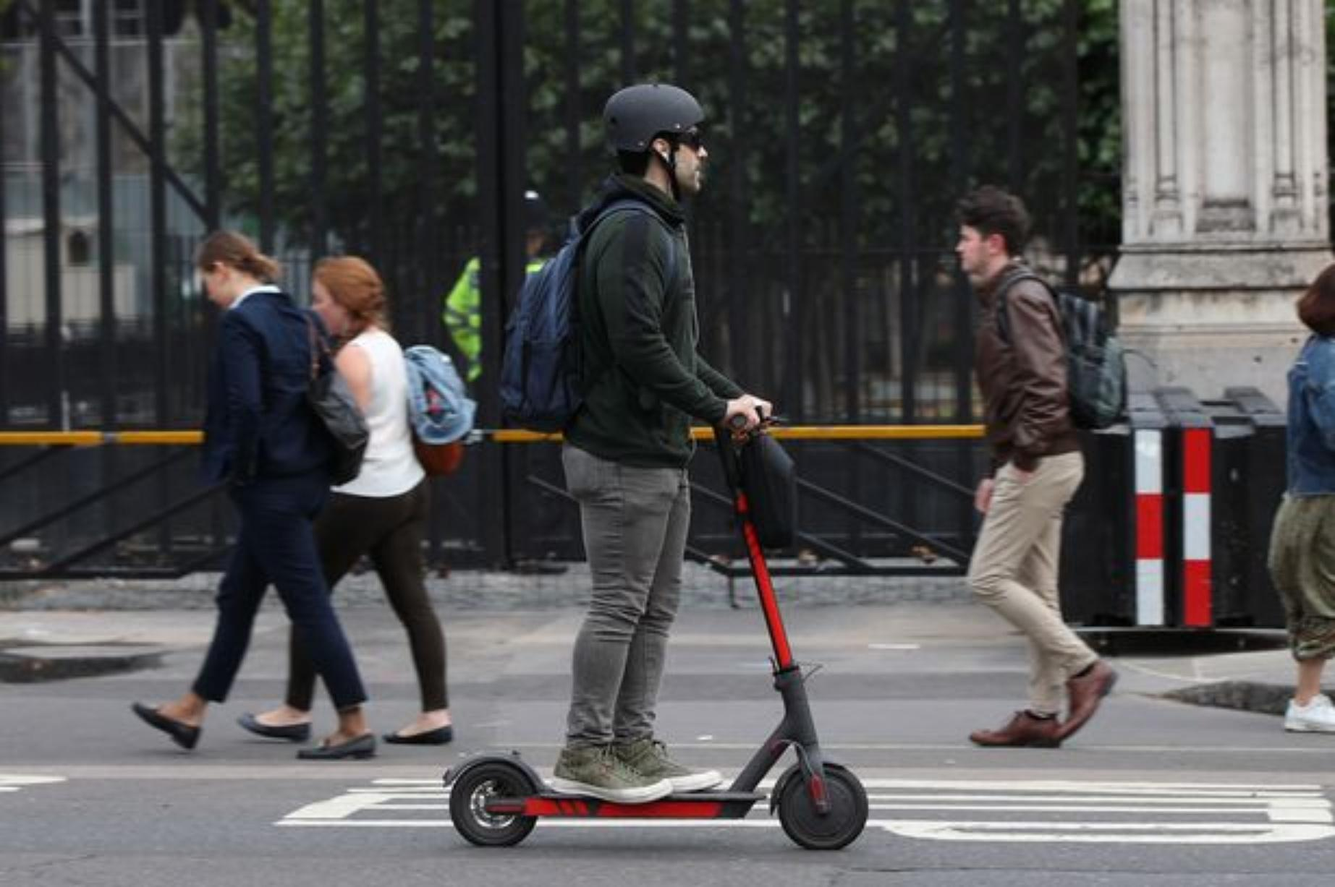helmet: (573, 76, 734, 206)
human: (551, 87, 786, 779)
kickboard: (427, 744, 870, 862)
